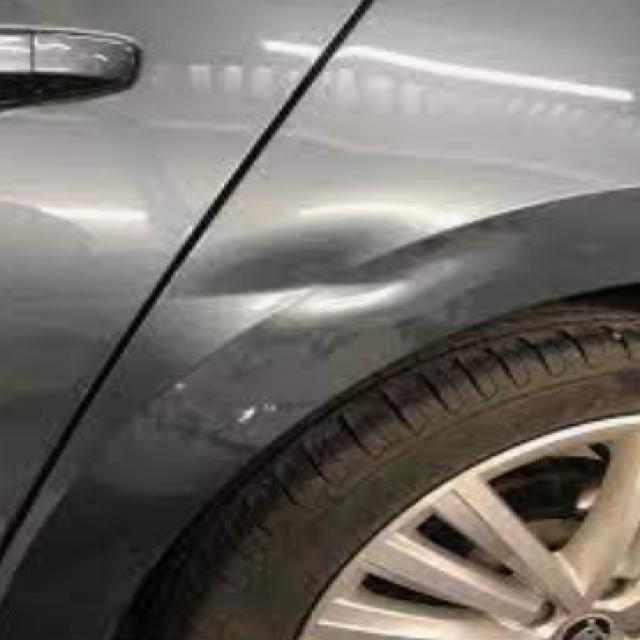dents: (148, 192, 539, 355)
